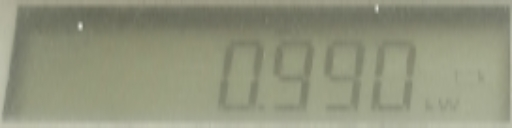0: (371, 29, 421, 119), (217, 31, 260, 116)
9: (268, 31, 319, 115), (320, 33, 367, 117)
d: (256, 102, 268, 113)
